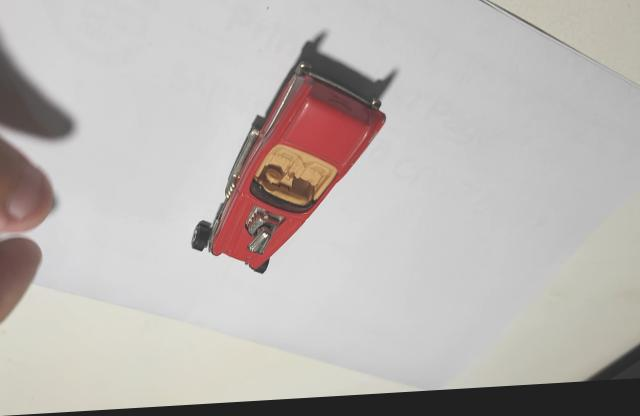03_V8: (191, 35, 400, 275)
